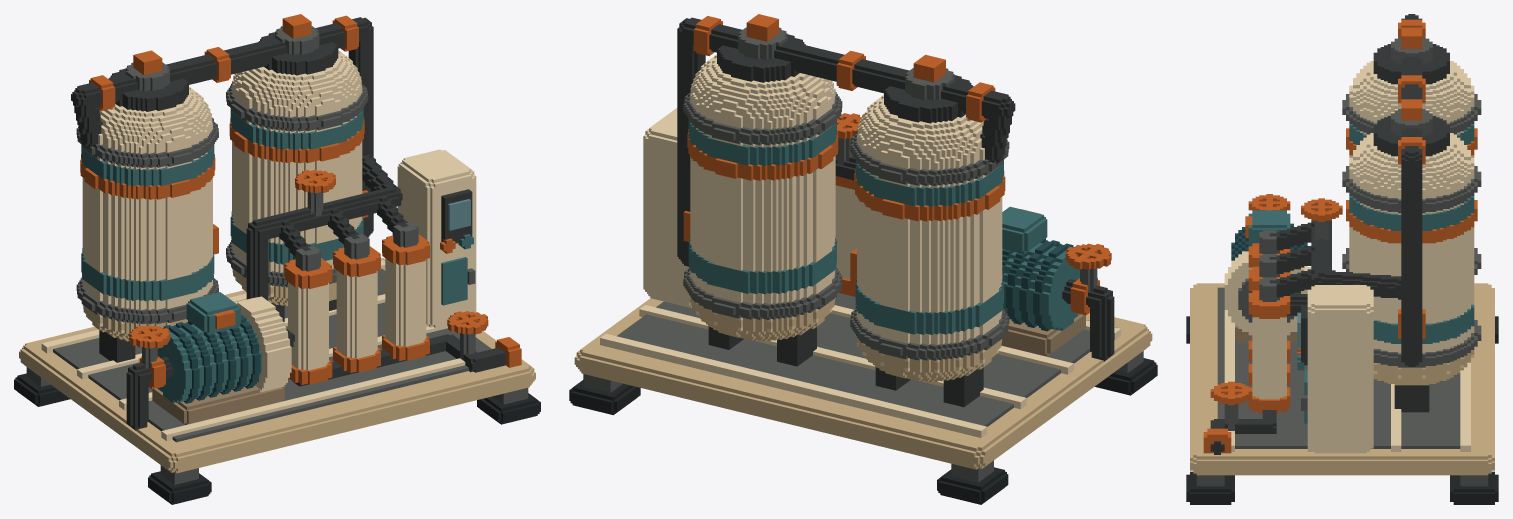
File: water_purifier.glb
3 renders of one model, left to right at view 1: azimuth 30°, elevation 25°; view 2: azimuth 150°, elevation 25°; view 3: azimuth 270°, elevation 25°, orthographic. The views are drawn at different scales.
Visible parts, largest first — view 1: water_purifier; view 2: water_purifier; view 3: water_purifier.
Part boxes in pixels (left/top/right/bottom): water_purifier: left=14, top=14, right=540, bottom=504; water_purifier: left=569, top=14, right=1157, bottom=504; water_purifier: left=1186, top=14, right=1498, bottom=504.
Bounding box in the file's own units: 4.88 × 4.32 × 3.6.
